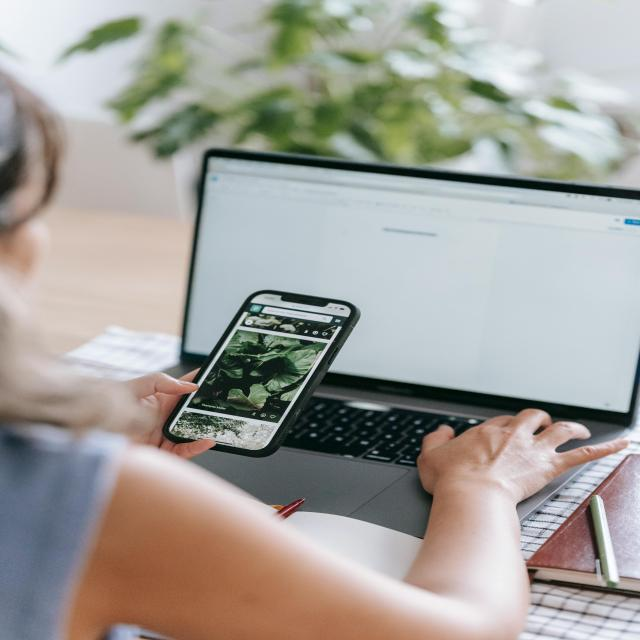Mobile: (163, 270, 373, 463)
